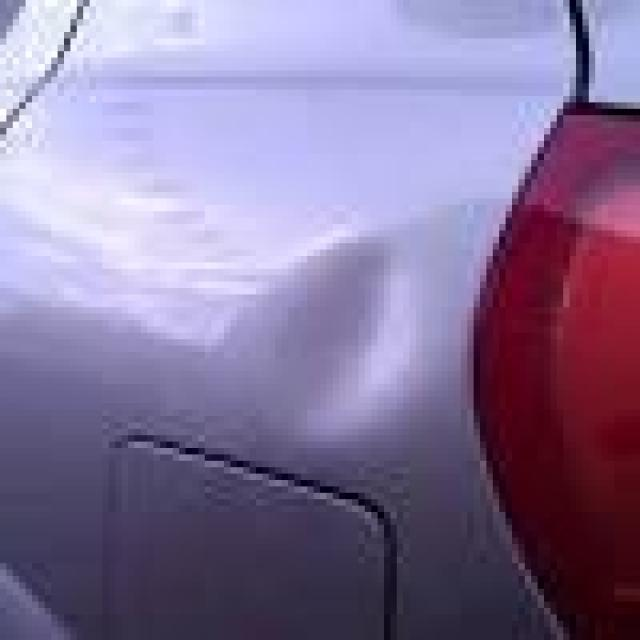minor: (176, 194, 518, 460)
